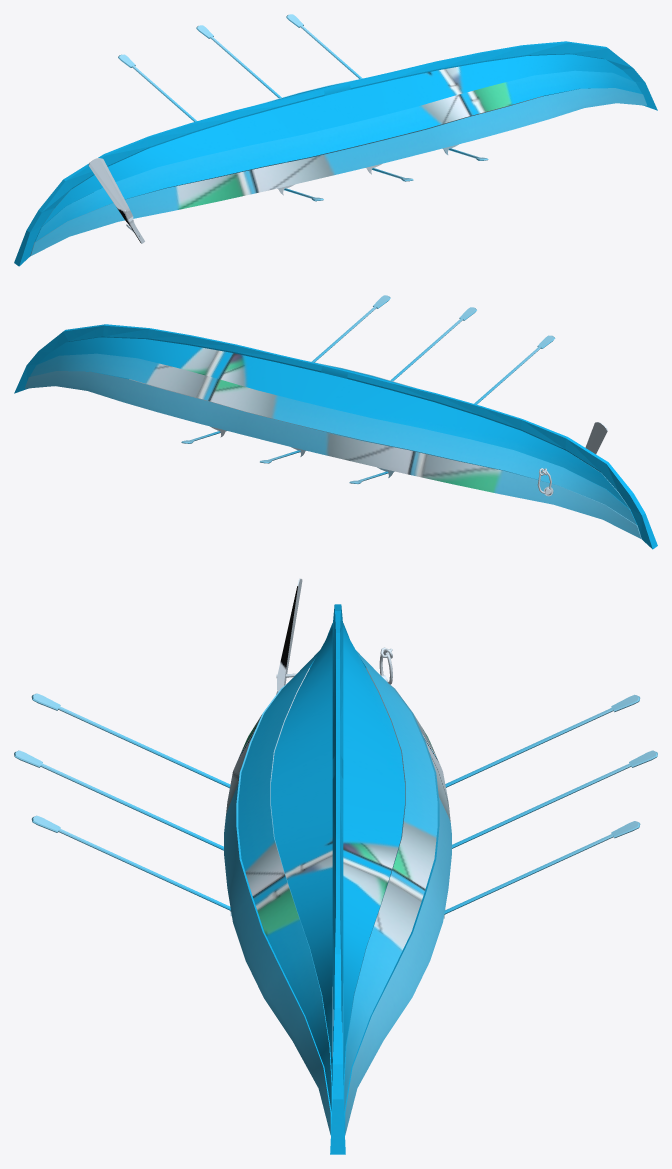
The model's file is spitfire.FBX.
The picture shows the model from 3 angles, top to bottom: view 1: azimuth 30°, elevation 25°; view 2: azimuth 150°, elevation 25°; view 3: azimuth 270°, elevation 25°; orthographic projection. The views are drawn at different scales.
Parts seen in each view (by area): view 1: Boat; view 2: Boat; view 3: Boat.
Boxes of the visible parts, x1=… form: Boat: x1=14, y1=14, x2=657, y2=266; Boat: x1=14, y1=295, x2=657, y2=549; Boat: x1=14, y1=578, x2=657, y2=1154.
Bounding box in the file's own units: 605 × 91.71 × 347.
